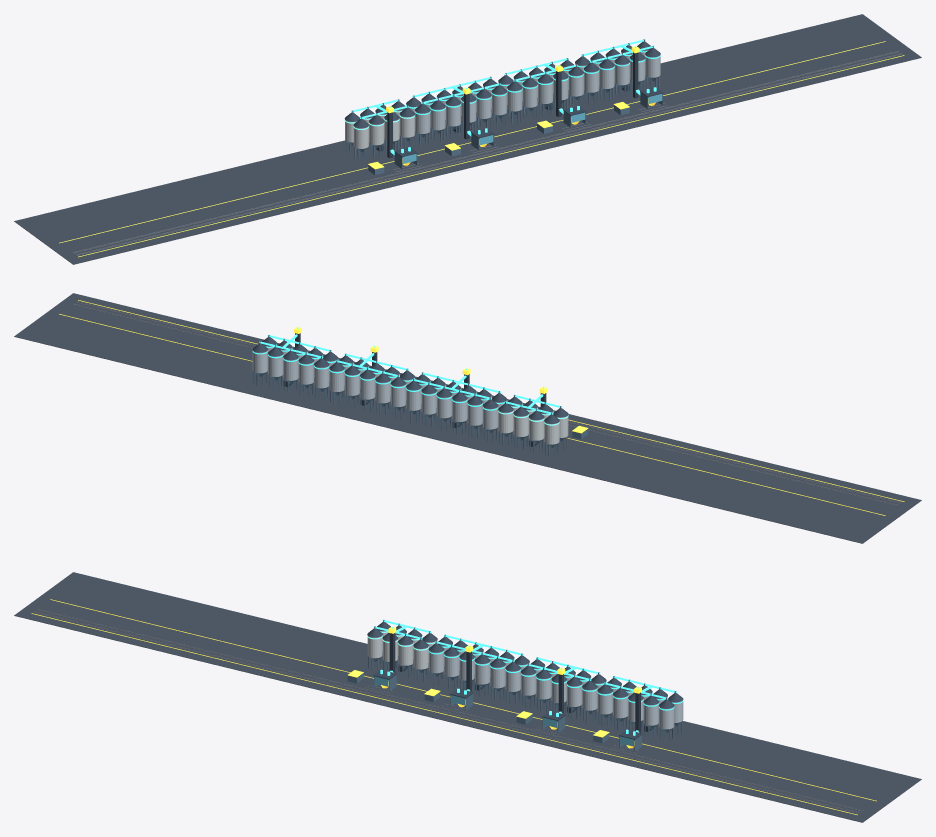
Rendered from ash-core-v4-high.glb.
3 renders of one model, top to bottom at view 1: azimuth 30°, elevation 25°; view 2: azimuth 150°, elevation 25°; view 3: azimuth 330°, elevation 25°, orthographic.
Parts seen in each view (by area): view 1: ash-apron-v4.001, bulk-gantry-rail-s.001, bulk-gantry-rail-n.001, ASH-TRACK-H1-rail.002, ASH-TRACK-H2-rail.003, ASH-TRACK-H2-rail.002, ASH-TRACK-H1-rail.003; view 2: ash-apron-v4.001, bulk-gantry-rail-s.001, bulk-gantry-rail-n.001; view 3: ash-apron-v4.001, bulk-gantry-rail-s.001, bulk-gantry-rail-n.001, ASH-TRACK-H1-rail.002, ASH-TRACK-H2-rail.003, ASH-TRACK-H2-rail.002, ASH-TRACK-H1-rail.003.
Part boxes in pixels (<box>): ash-apron-v4.001: <box>14,14,921,264</box>; bulk-gantry-rail-s.001: <box>78,55,904,257</box>; bulk-gantry-rail-n.001: <box>59,41,885,243</box>; ASH-TRACK-H1-rail.002: <box>76,54,902,255</box>; ASH-TRACK-H2-rail.003: <box>72,51,898,252</box>; ASH-TRACK-H2-rail.002: <box>73,51,899,253</box>; ASH-TRACK-H1-rail.003: <box>76,53,901,254</box>; ash-apron-v4.001: <box>14,293,921,543</box>; bulk-gantry-rail-s.001: <box>78,300,904,501</box>; bulk-gantry-rail-n.001: <box>59,314,885,515</box>; ash-apron-v4.001: <box>14,572,921,822</box>; bulk-gantry-rail-s.001: <box>31,613,857,815</box>; bulk-gantry-rail-n.001: <box>50,599,876,801</box>; ASH-TRACK-H1-rail.002: <box>33,612,859,813</box>; ASH-TRACK-H2-rail.003: <box>37,609,863,810</box>; ASH-TRACK-H2-rail.002: <box>36,609,862,811</box>; ASH-TRACK-H1-rail.003: <box>34,611,859,812</box>.
Size of the model in its own units: 774 by 44.16 by 93.75.
